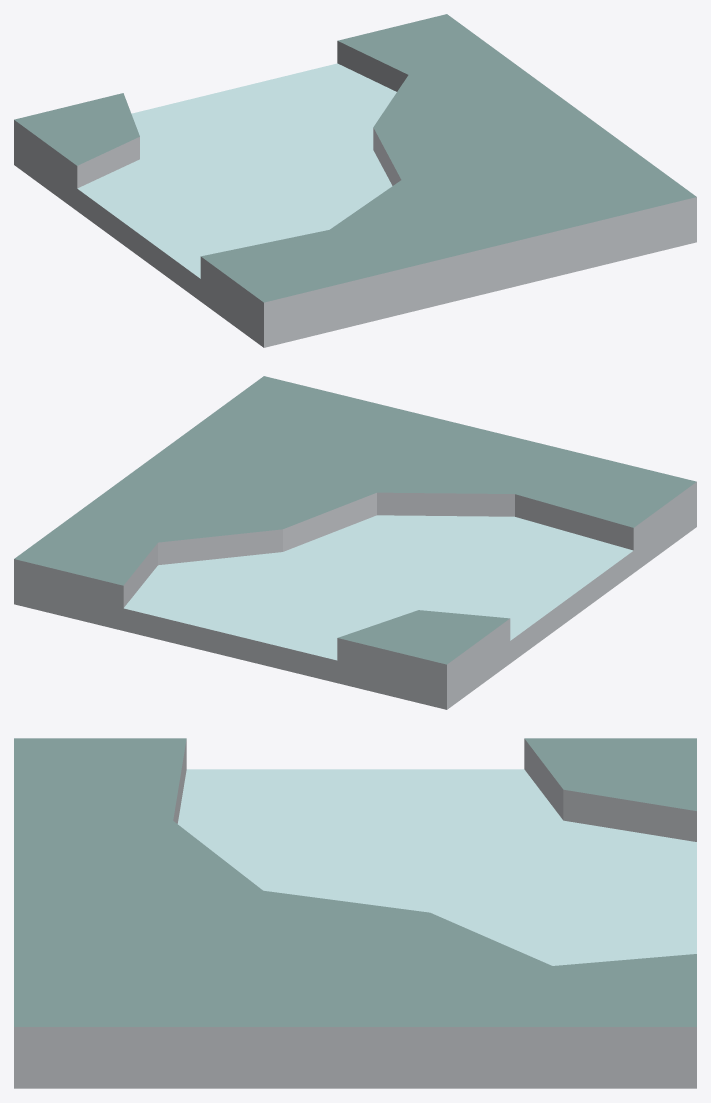
The model's file is naturePack_092.gltf.
3 views of the same model, one above another, from view 1: azimuth 30°, elevation 25°; view 2: azimuth 150°, elevation 25°; view 3: azimuth 270°, elevation 25° (orthographic). The views are drawn at different scales.
Visible parts, largest first — view 1: Mesh1 Plate_River_Corner Model; view 2: Mesh1 Plate_River_Corner Model; view 3: Mesh1 Plate_River_Corner Model.
Part boxes in pixels (left/top/right/bottom): Mesh1 Plate_River_Corner Model: left=14, top=14, right=696, bottom=347; Mesh1 Plate_River_Corner Model: left=14, top=376, right=696, bottom=709; Mesh1 Plate_River_Corner Model: left=14, top=738, right=696, bottom=1088.
Bounding box in the file's own units: 3 × 0.3 × 3.
